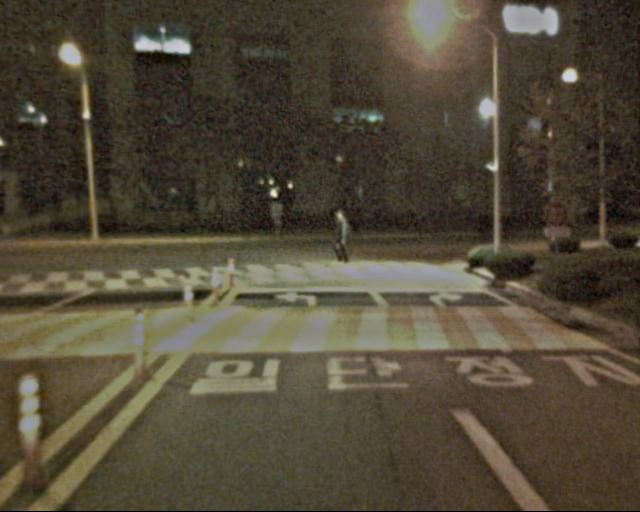person: (330, 209, 358, 277)
